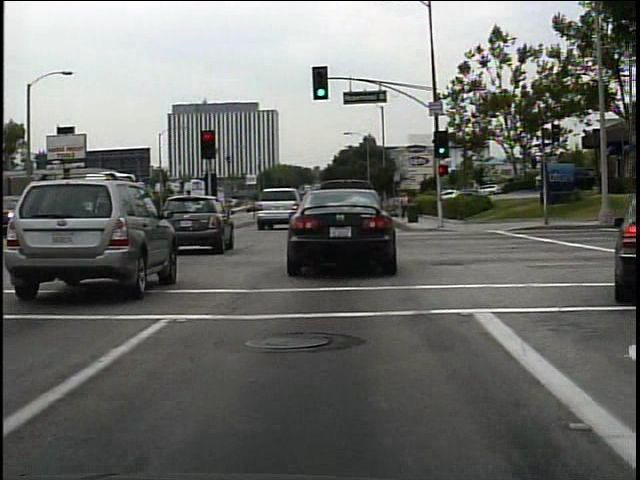person: (398, 191, 410, 221)
